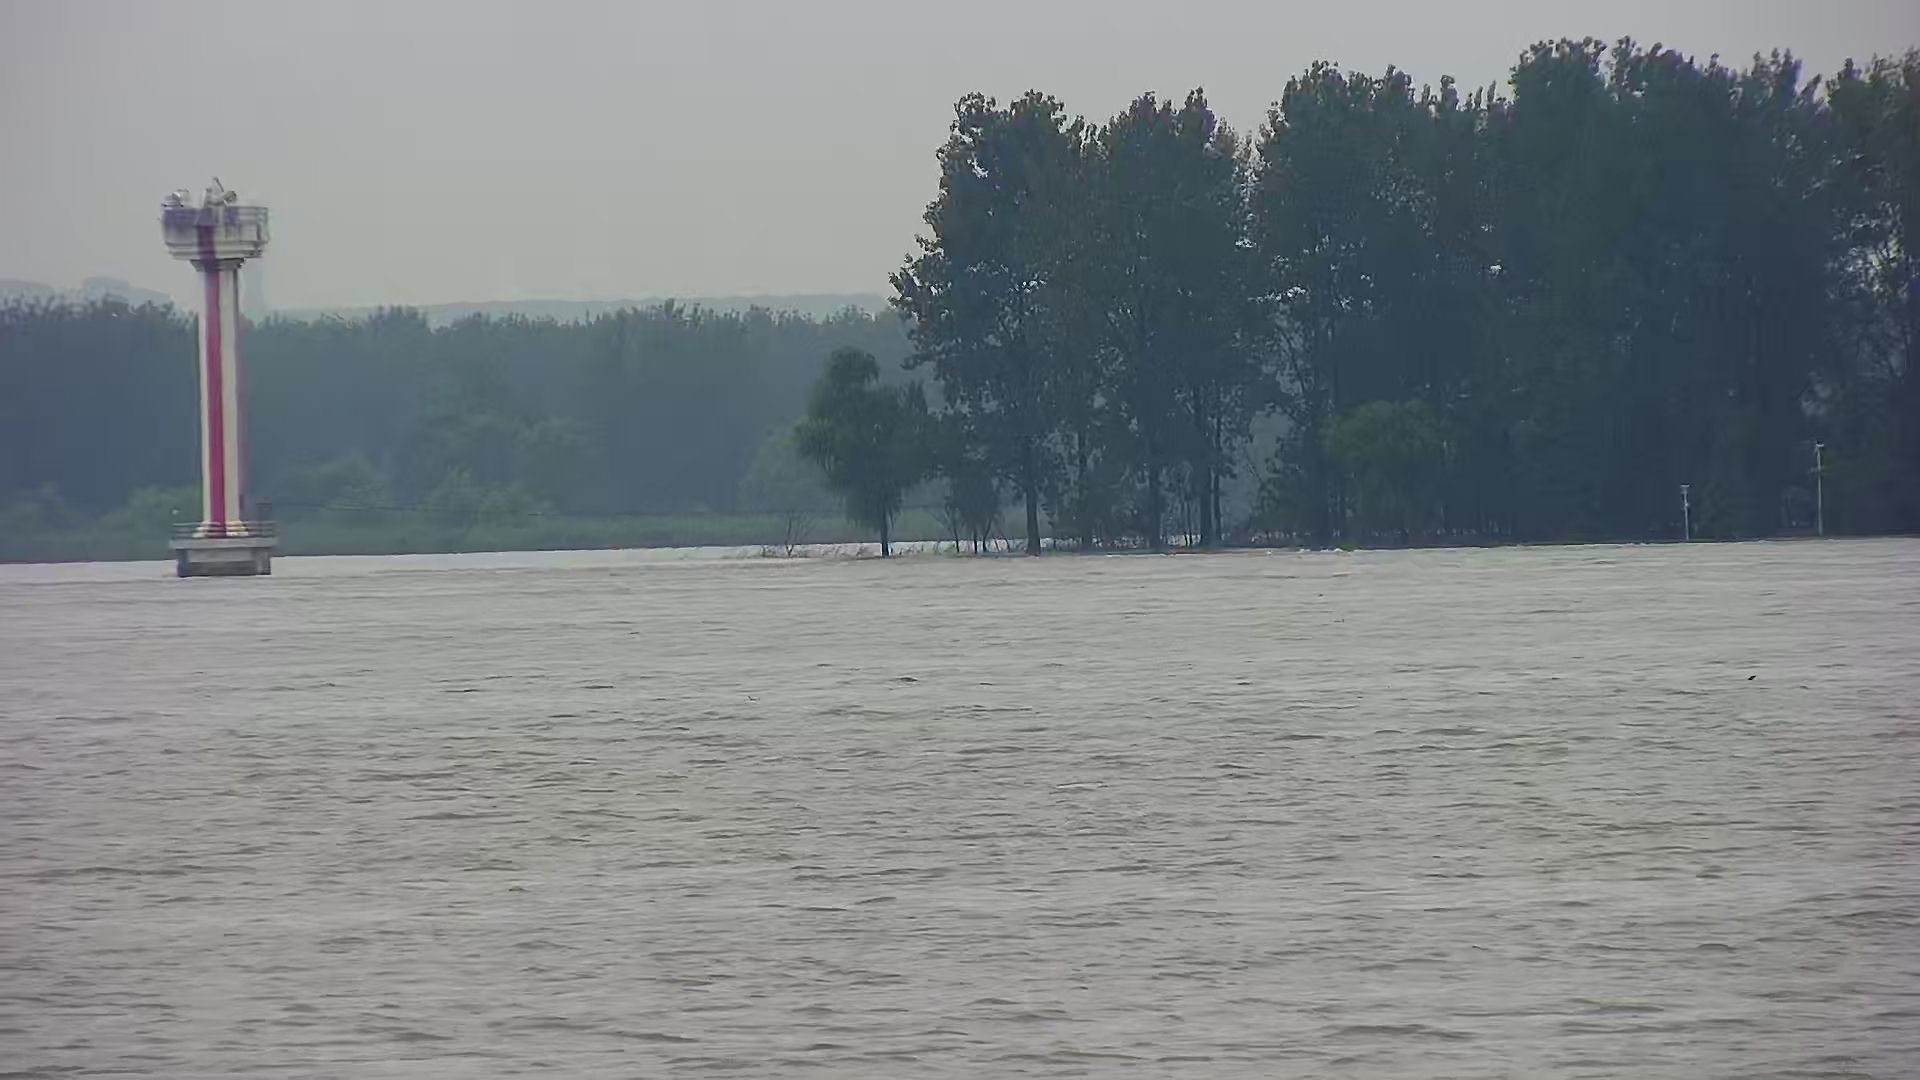platform: (145, 173, 285, 574)
tree: (1431, 32, 1700, 541), (1586, 55, 1816, 538), (1236, 76, 1436, 545), (910, 105, 1098, 563), (1067, 96, 1230, 553), (1778, 37, 1920, 541), (803, 356, 936, 560)
